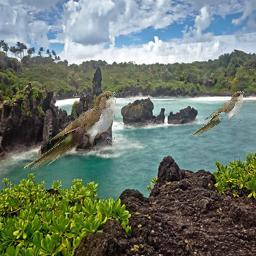Cuckoo: (23, 89, 124, 170), (190, 90, 248, 136)
